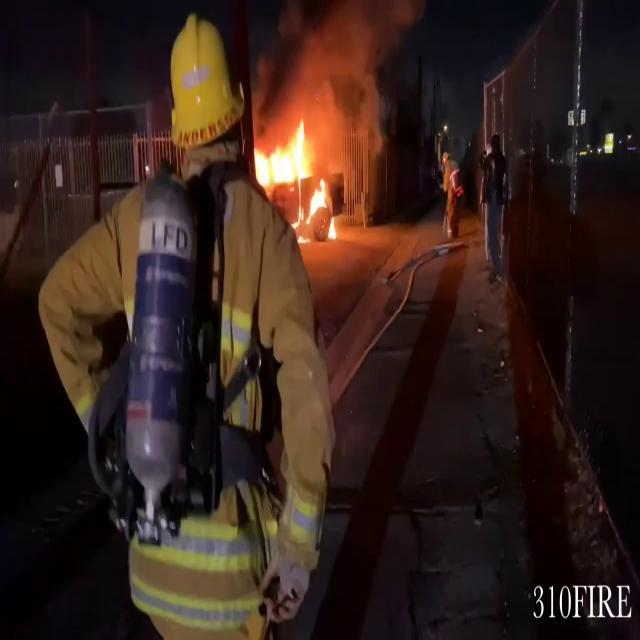Fire: (252, 112, 312, 198), (307, 172, 344, 252)
Smoke: (276, 7, 420, 162)
